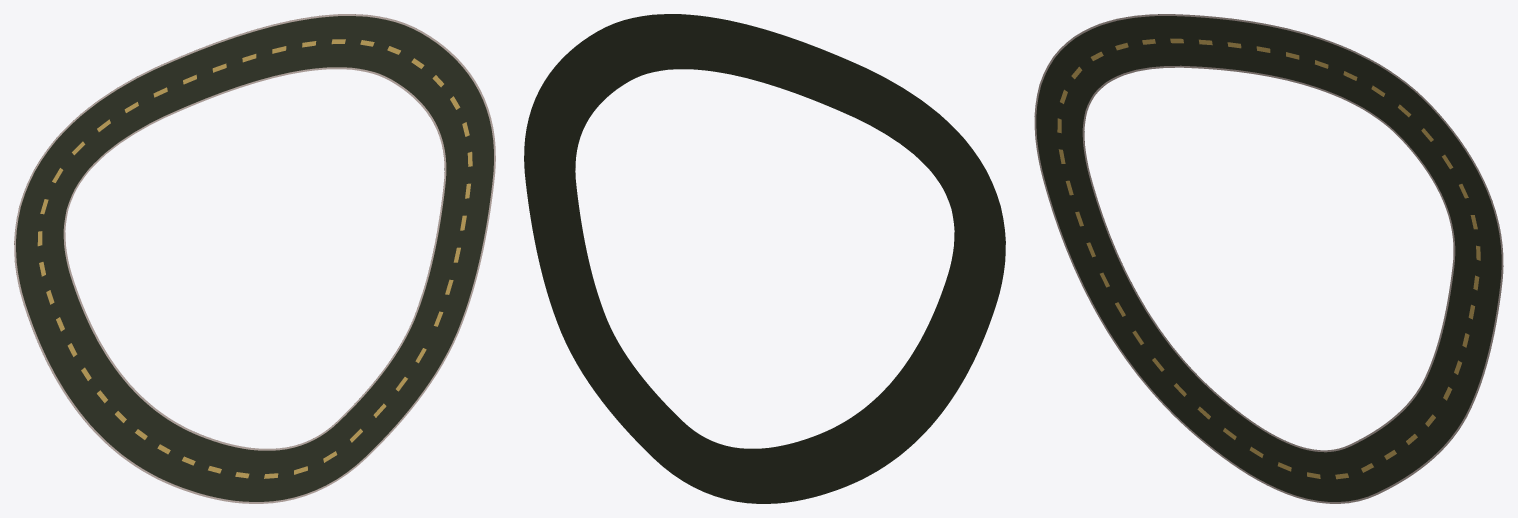
Rendered from track.obj.
3 renders of one model, left to right at view 1: azimuth 30°, elevation 25°; view 2: azimuth 150°, elevation 25°; view 3: azimuth 330°, elevation 25°, orthographic. The views are drawn at different scales.
Size of the model in its own units: 10.48 by 9.98 by 0.002.
3 materials, 3 textured.
